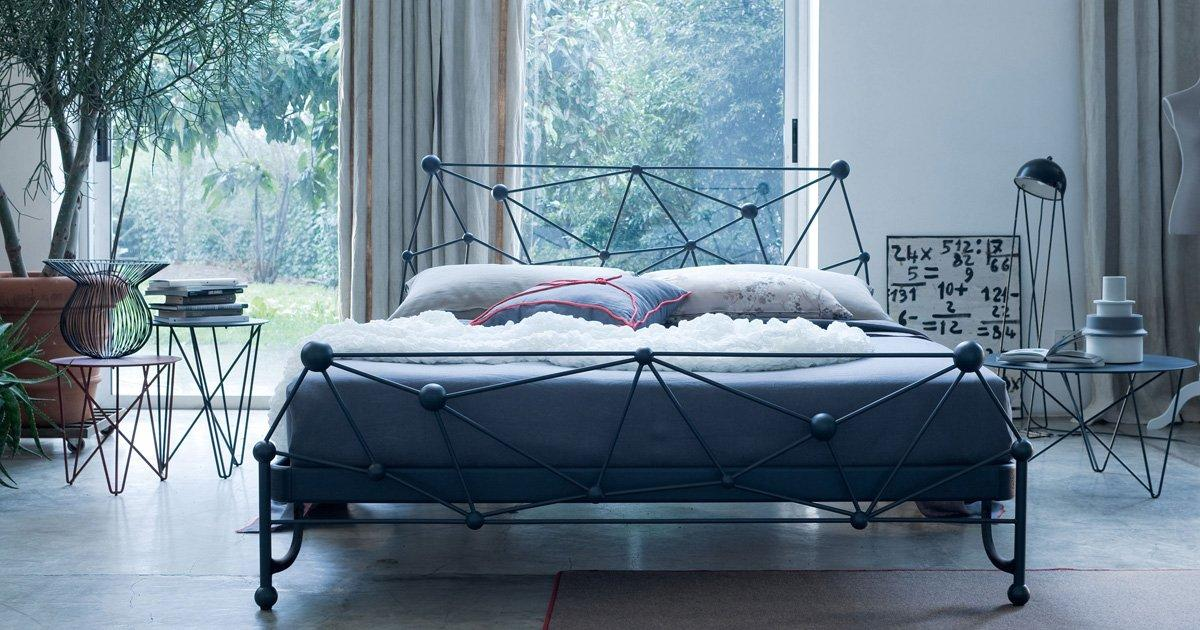bed: (291, 157, 967, 546)
